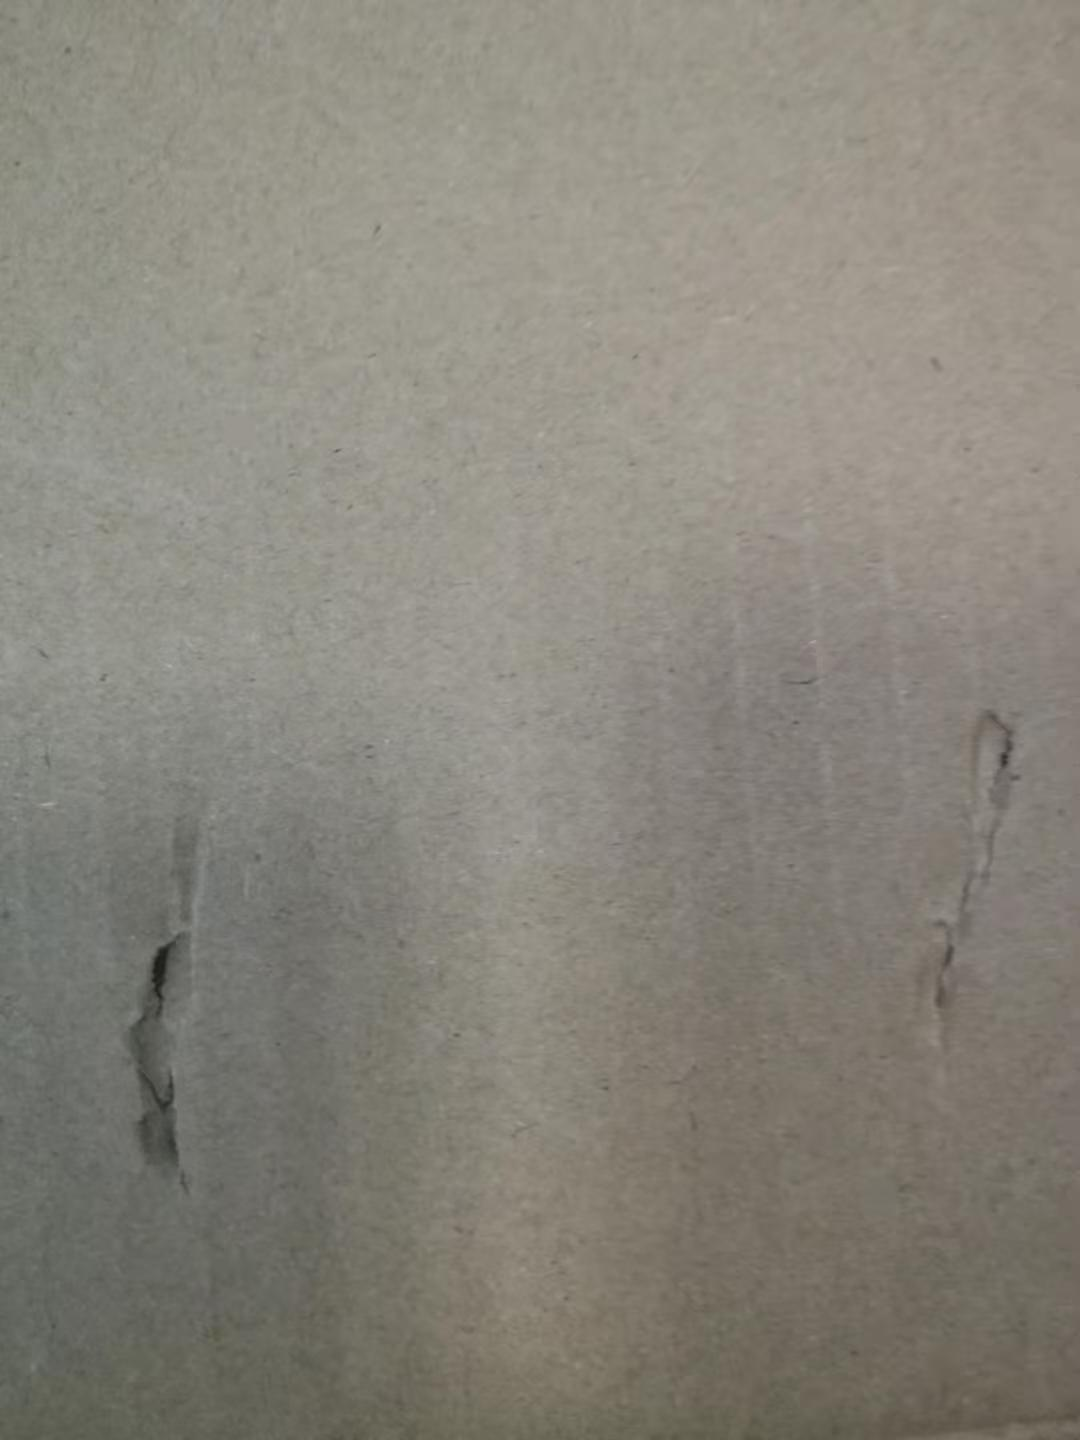defect: (857, 668, 1069, 1116), (77, 782, 280, 1215)
